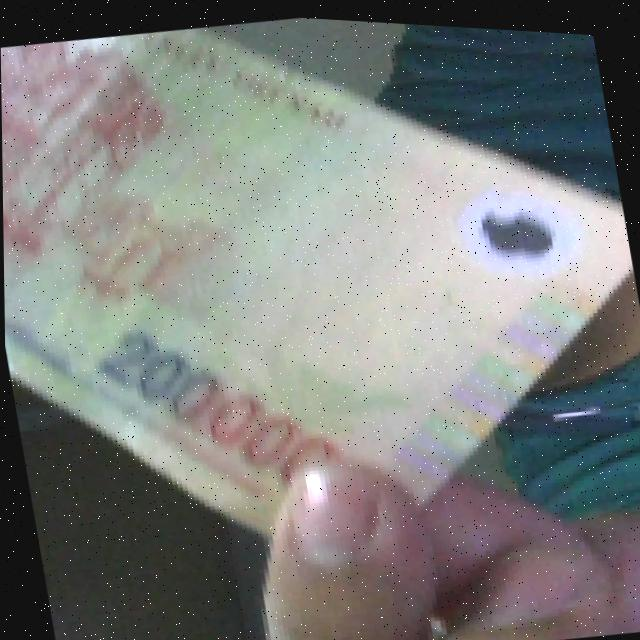200 000 VND: (0, 0, 640, 594)
